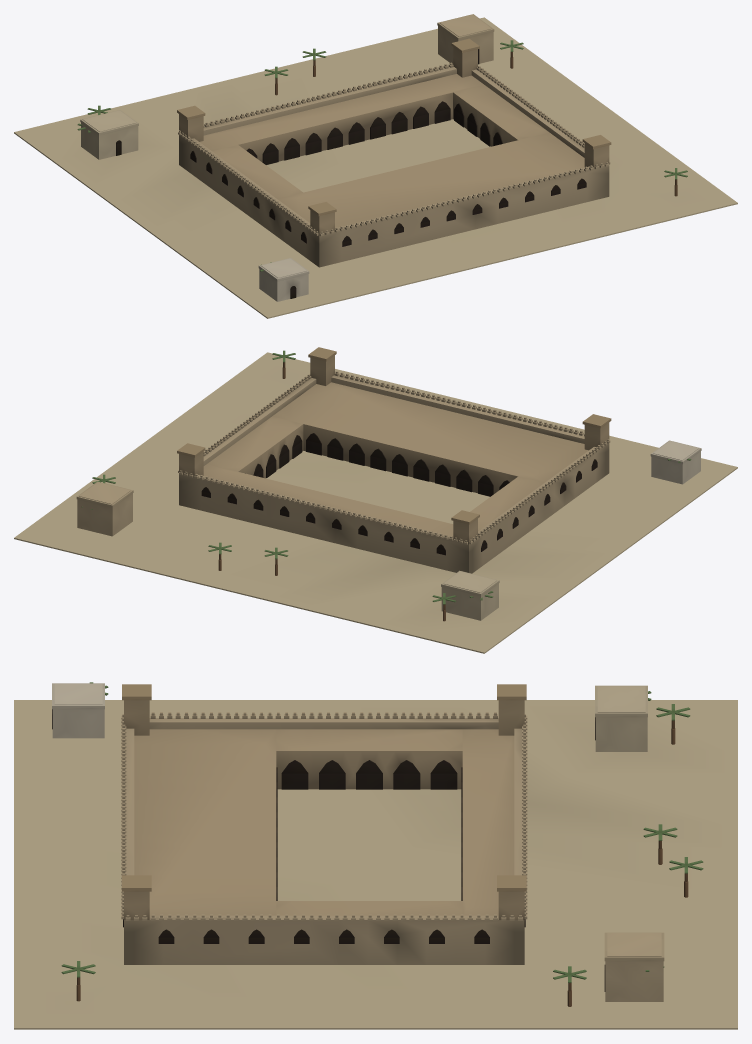
File: amr-mosque-700.glb
3 renders of one model, top to bottom at view 1: azimuth 30°, elevation 25°; view 2: azimuth 150°, elevation 25°; view 3: azimuth 270°, elevation 25°, orthographic. The views are drawn at different scales.
Visible parts, largest first — view 1: p0_walls, p1_halls, p2_towers; view 2: p0_walls, p1_halls, p2_towers; view 3: p0_walls, p1_halls, p2_towers.
Part boxes in pixels (box(x1,y1,x2,y2)): p0_walls: box(14, 17, 737, 318); p1_halls: box(199, 74, 584, 228); p2_towers: box(77, 14, 687, 301); p0_walls: box(14, 352, 737, 653); p1_halls: box(203, 382, 588, 536); p2_towers: box(76, 347, 701, 620); p0_walls: box(14, 700, 737, 1029); p1_halls: box(134, 729, 514, 915); p2_towers: box(52, 682, 703, 1001).
Bounding box in the file's own units: 120 × 13.6 × 112.
